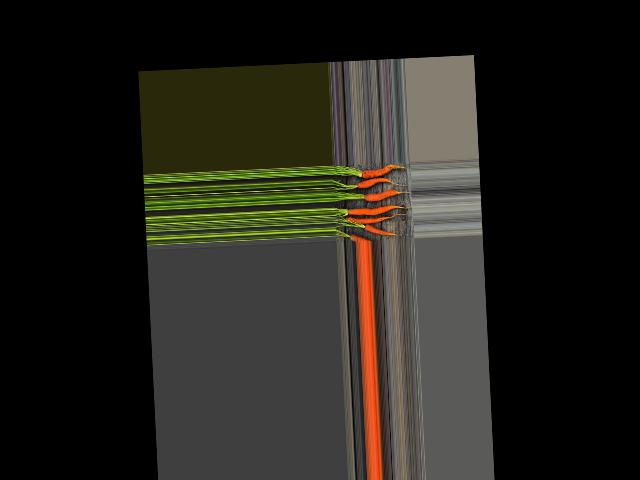carrot: (342, 230, 365, 242)
